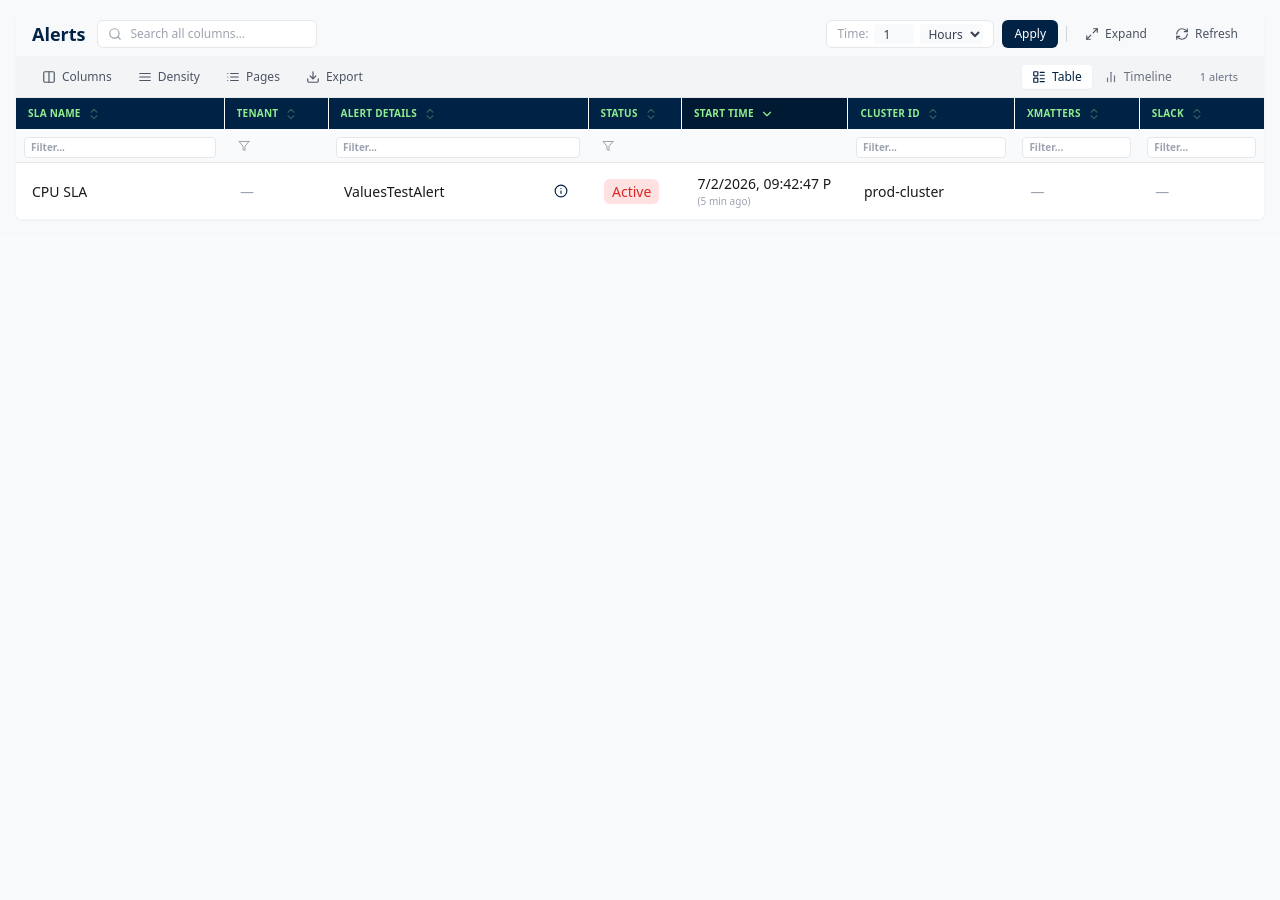
Test: AlertsView — additional coverage › alert details dialog › shows time-series values in AlertDetailsDialog
Expected: the text "ValuesTestAlert" is shown, [344,182,445,200]
Click the button titled "View full alert details". click: coordinates (561, 191)
box: [550,180,572,202]
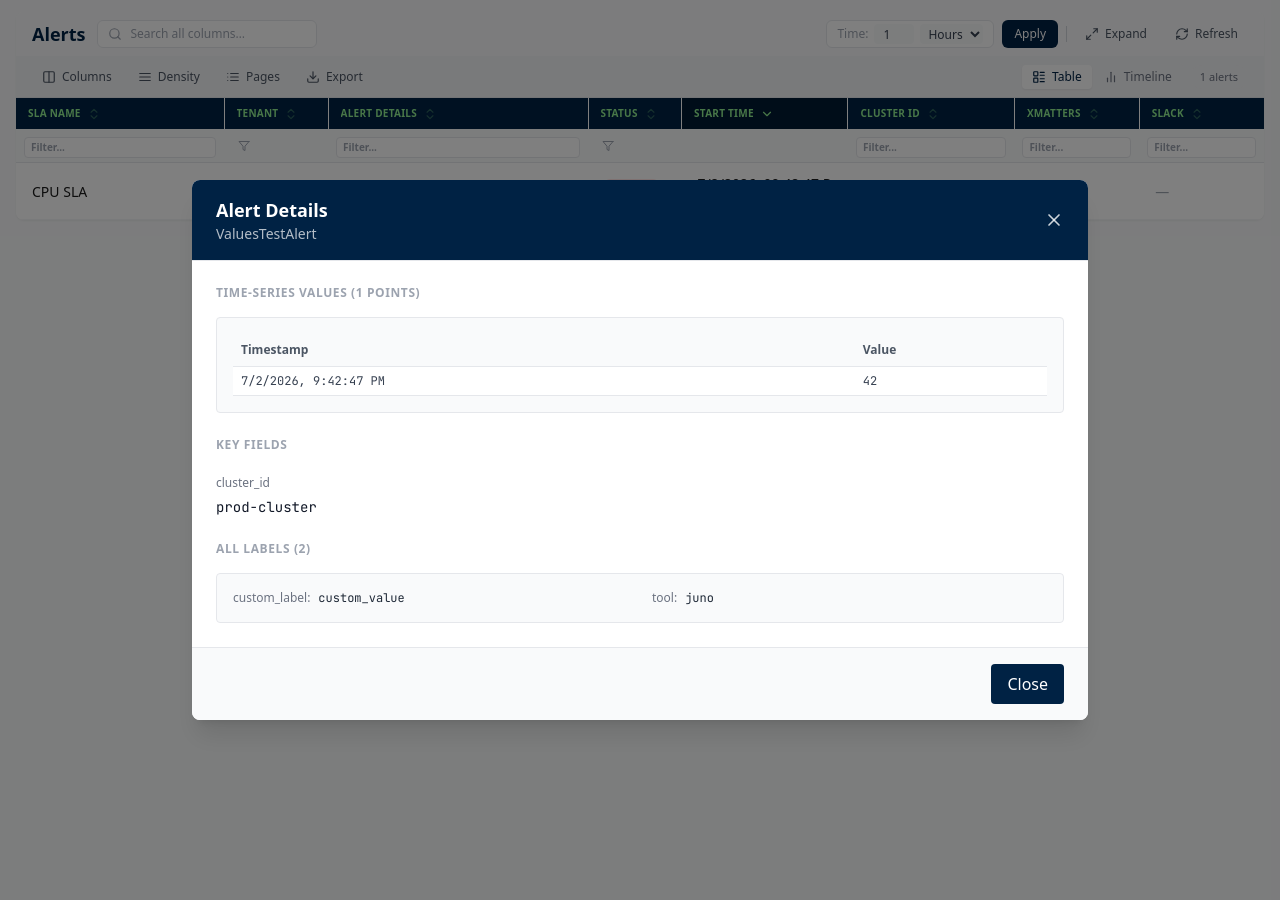
Expected: the heading "Time-Series Values (1 points)" is shown, [216,284,420,301]
Expected: the text "42" is shown, [855,366,1047,396]
